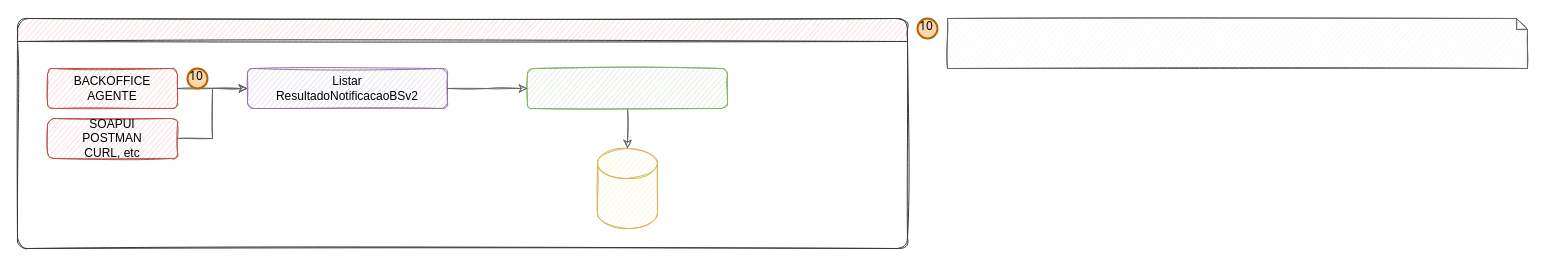
Image size: 1545x266. Some labels were removed from this diagram. Here are the shapes that lost their labels. From the top down, the box of each, then its label:
(946, 18, 1528, 68): O Agente pode consultar o resultado das notificações enviadas, para auditoria
(526, 68, 728, 108): AVISOS
(16, 18, 908, 248): AGENTE PODE CONSULTAR O STATUS DAS NOTIFICAÇÕES ENVIADAS
